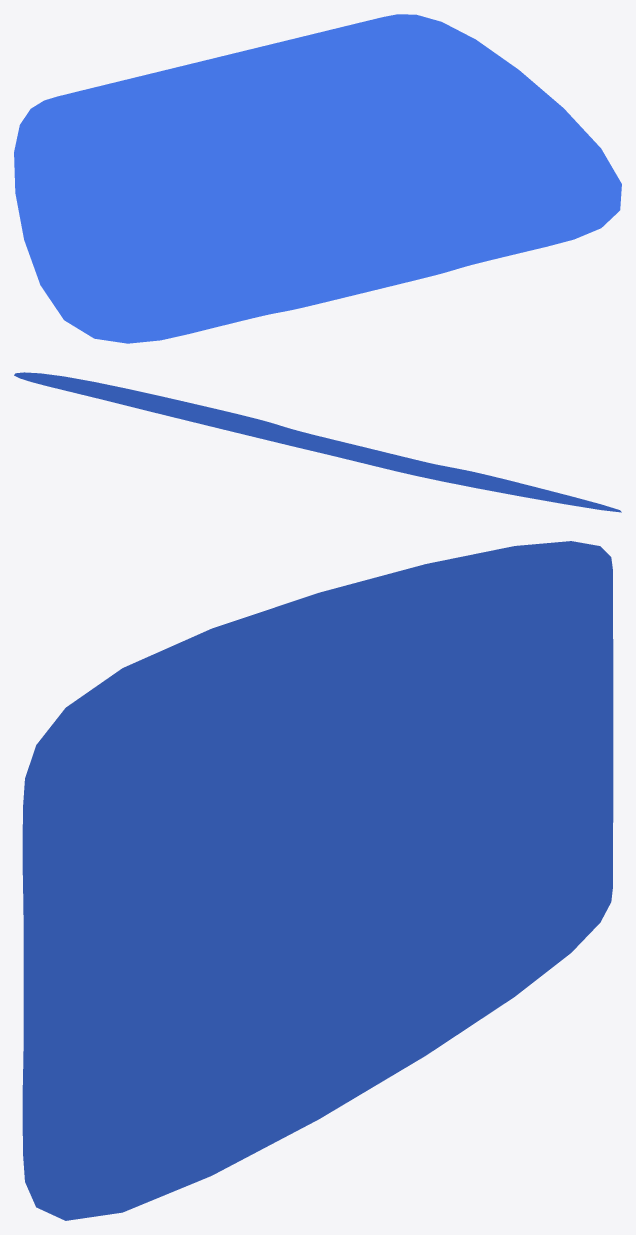
File: VidrioFrontal.fbx
3 views of the same model, one above another, from view 1: azimuth 30°, elevation 25°; view 2: azimuth 150°, elevation 25°; view 3: azimuth 270°, elevation 25° (orthographic). The views are drawn at different scales.
Visible parts, largest first — view 1: Maquina.004; view 2: Maquina.004; view 3: Maquina.004.
Part boxes in pixels (x1,y1,x2,y2): Maquina.004: (14, 14, 621, 343); Maquina.004: (14, 372, 621, 512); Maquina.004: (22, 541, 613, 1220).
Bounding box in the file's own units: 194 × 42.14 × 88.54.
